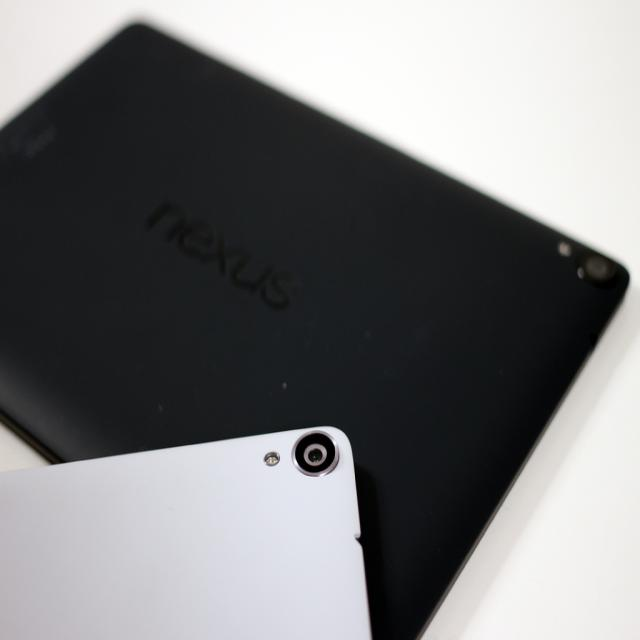Mobile-phone: (0, 47, 640, 640), (0, 423, 374, 639)
